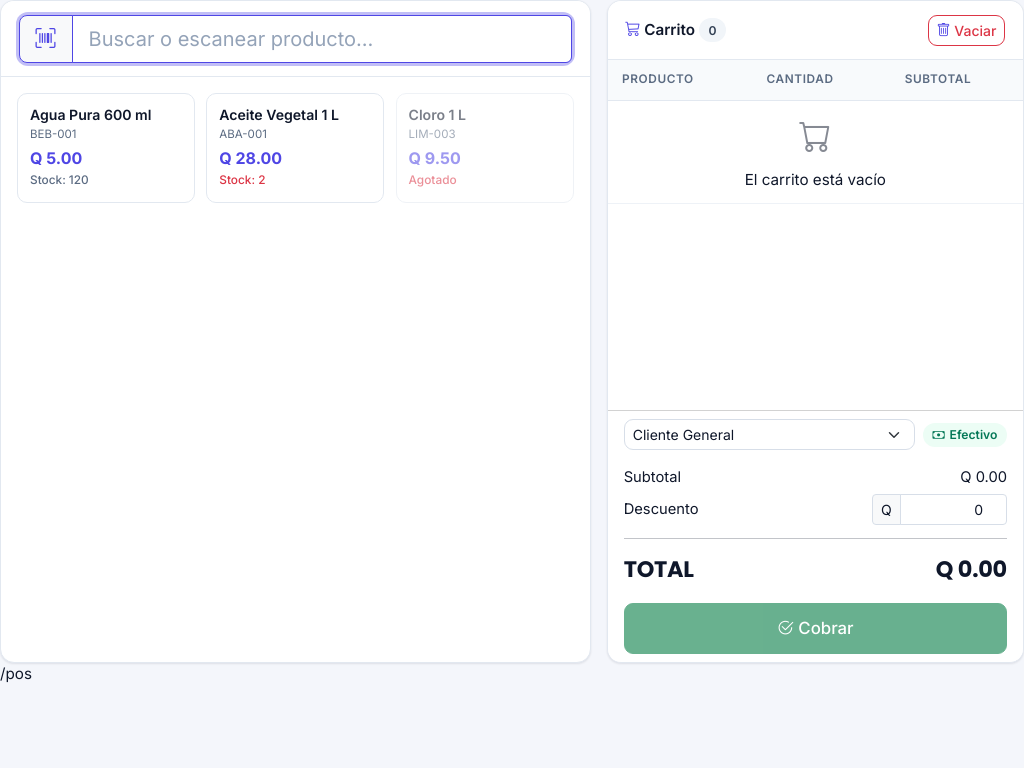
Test: Punto de venta › cobrar envía la venta sin método de pago y avisa el monto en efectivo
The image size is (1024, 768).
Click the button with aria-label "Agregar Agua".
click(106, 148)  # box [17,93,195,203]
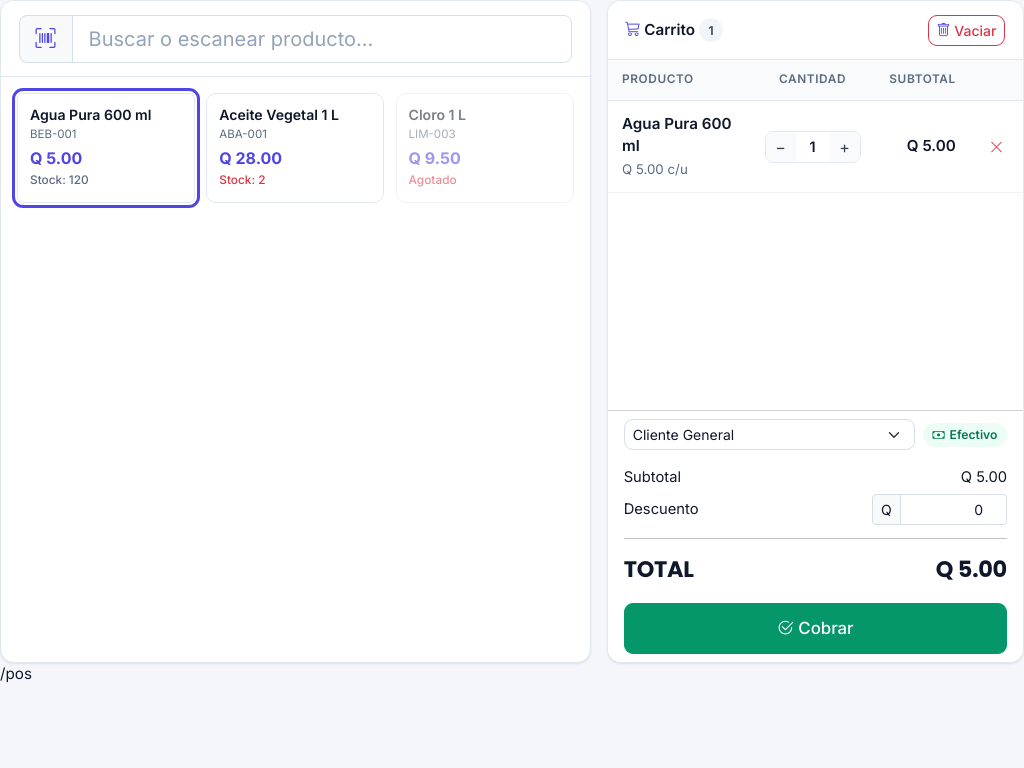
Click the button with aria-label "Agregar Agua".
click(106, 148)  # box [17,93,195,203]
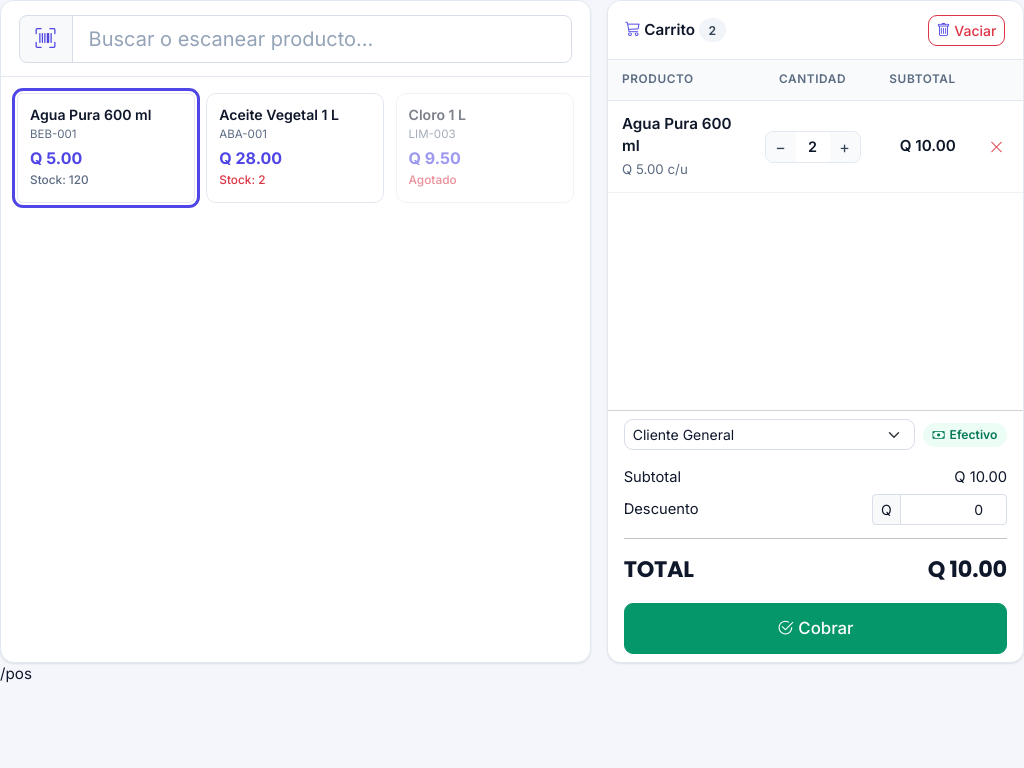
Click the button "Cobrar".
click(815, 628)  # box [624,603,1007,654]
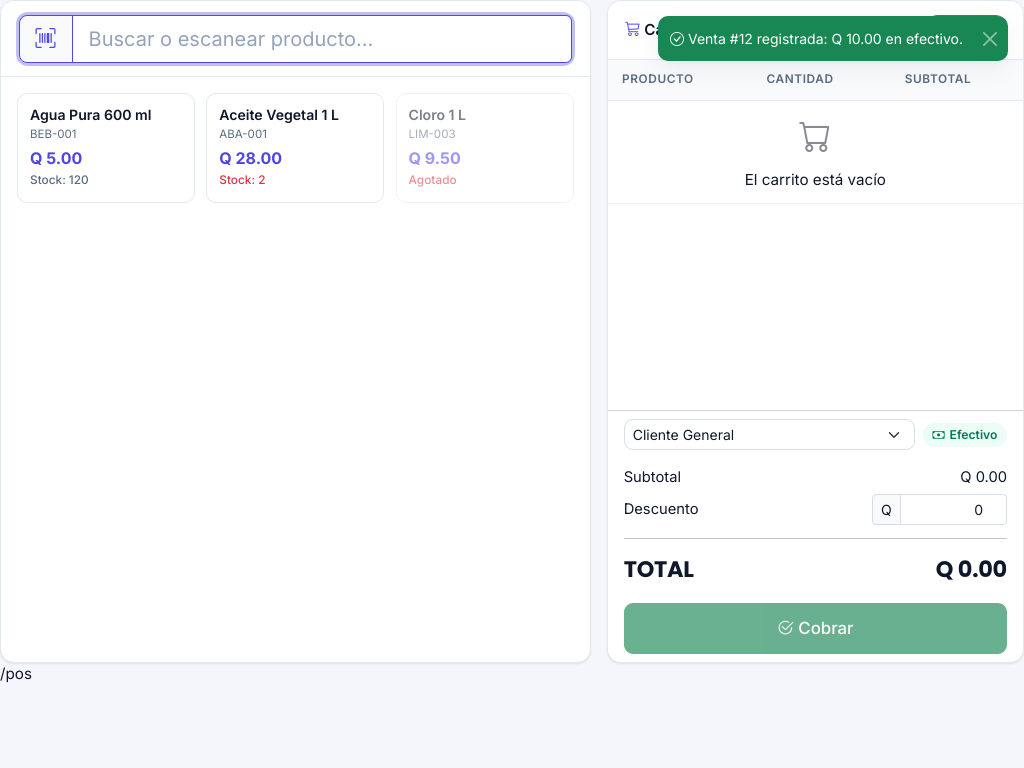
Now the text "Venta #12 registrada: Q 10.00 en efectivo." is shown, box [670,30,963,47]
